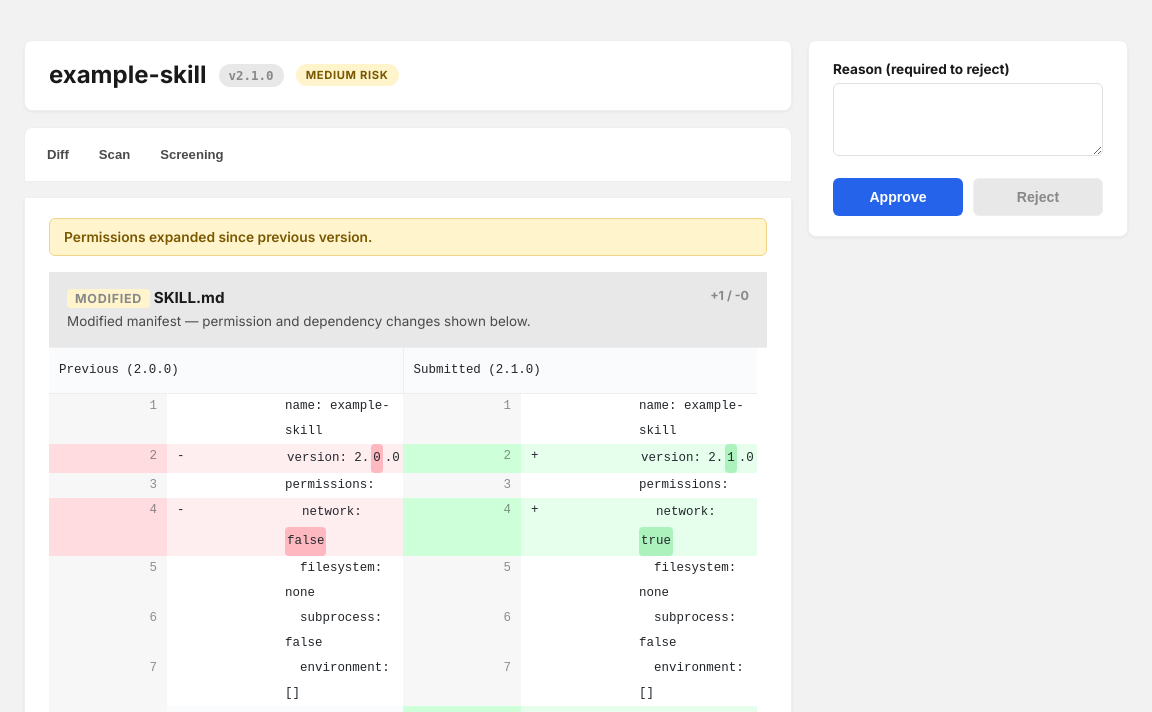
ReviewDetail › preserves scan metadata and tool results when no findings are reported
The image size is (1152, 712).
Expected: the heading "example-skill" is shown, [49,61,207,90]
Click the tab "Scan" at (114, 154), box [87,138,142,171]
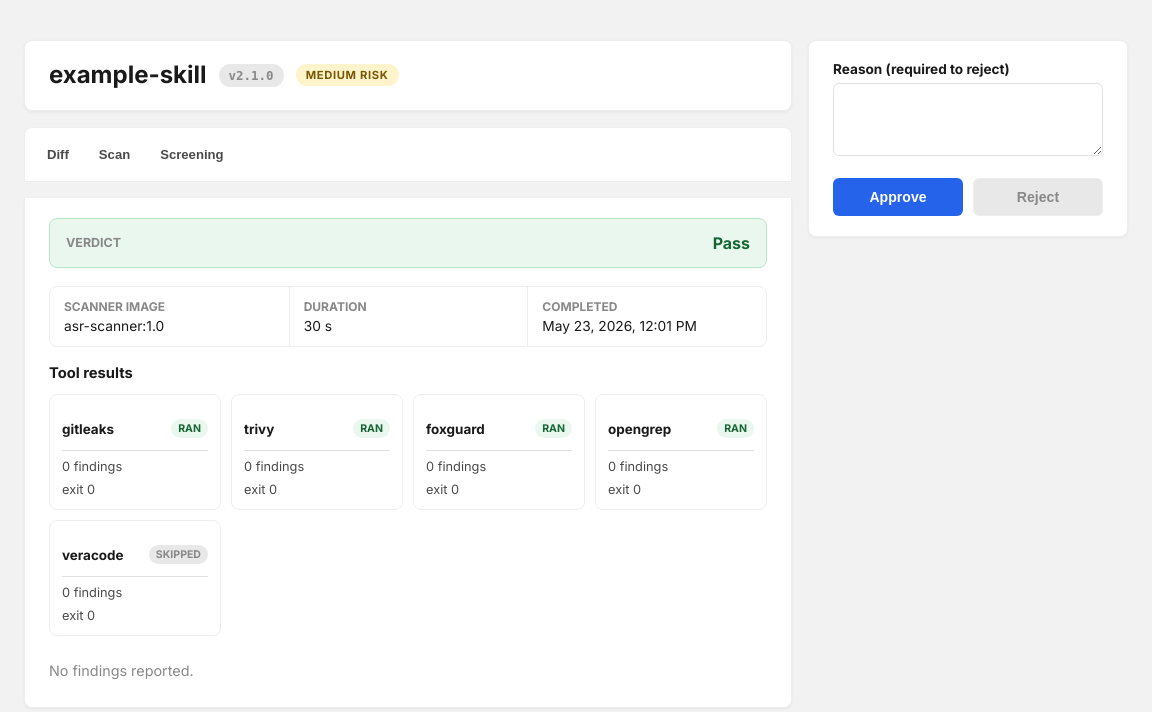
Now the element named "scan verdict: pass" is shown, box [49,218,767,268]
Now the panel "Scan" shows "asr-scanner:1.0", box [64,318,164,334]
Now the element named "opengrep result" shows "0 findings", box [595,394,767,510]
